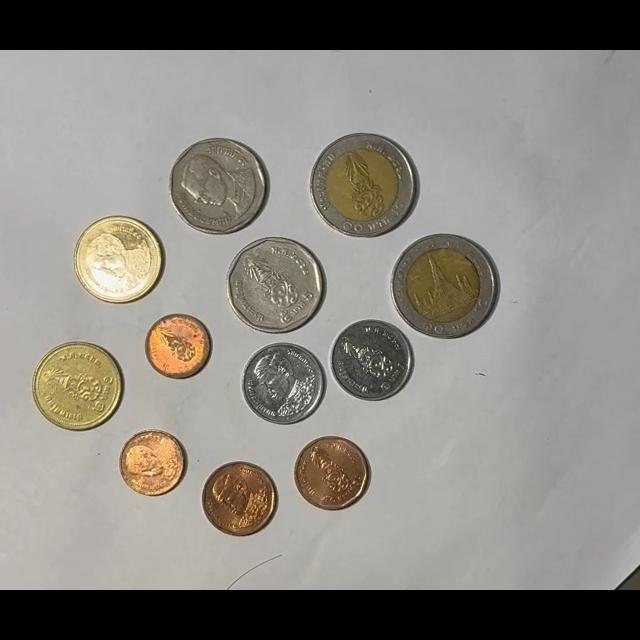1-baht: (240, 342, 325, 425), (330, 319, 413, 402)
10-baht: (391, 233, 498, 339), (309, 133, 417, 238)
2-baht: (32, 341, 124, 432), (74, 216, 162, 305)
25-satang: (119, 429, 187, 497), (145, 313, 211, 379)
5-baht: (169, 137, 268, 235), (226, 237, 325, 334)
50-satang: (201, 461, 278, 537), (293, 435, 369, 511)
